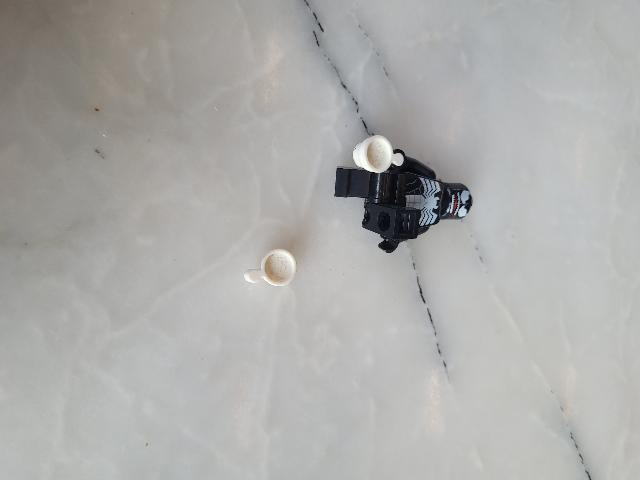Plastik: (333, 153, 487, 259)
